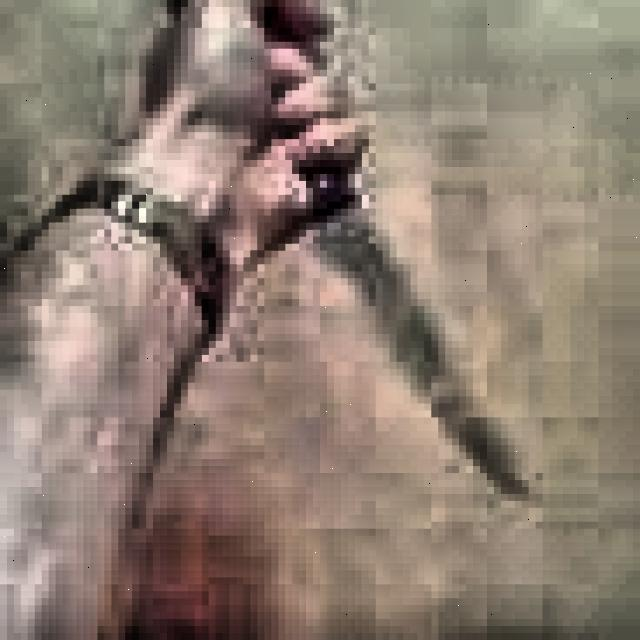knife: (167, 0, 522, 501)
